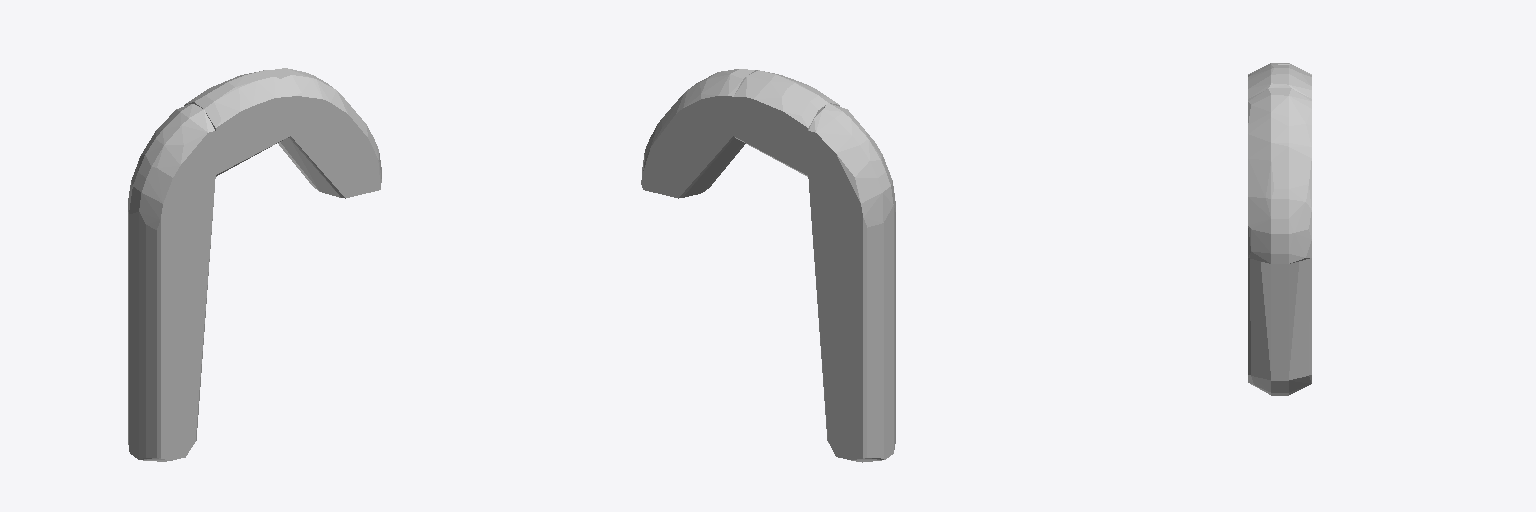
Rendered from faucet-hull.obj.
3 views of the same model, side by side, from view 1: azimuth 30°, elevation 25°; view 2: azimuth 150°, elevation 25°; view 3: azimuth 270°, elevation 25° (orthographic).
Visible parts, largest first — view 1: hull-0, hull-2, hull-1; view 2: hull-0, hull-2, hull-1; view 3: hull-2, hull-0, hull-1.
Boxes of the visible parts, box(x1,y1,x2,y2) form: hull-0: box(128, 104, 215, 461); hull-2: box(269, 68, 381, 198); hull-1: box(184, 70, 290, 176); hull-0: box(808, 103, 895, 462); hull-2: box(641, 69, 754, 198); hull-1: box(733, 70, 839, 176); hull-2: box(1248, 88, 1311, 263); hull-0: box(1248, 63, 1311, 395); hull-1: box(1248, 65, 1311, 98).
Size of the model in its own units: 4.96 by 7 by 1.12.